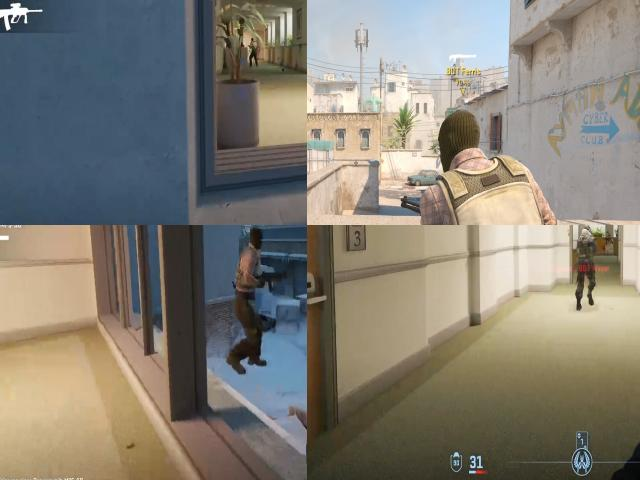CT: (576, 226, 595, 268)
CT-Head: (580, 225, 592, 242)
T: (413, 107, 580, 225), (233, 248, 267, 321), (248, 35, 258, 62)
T-Head: (433, 109, 481, 186), (240, 226, 267, 257)
